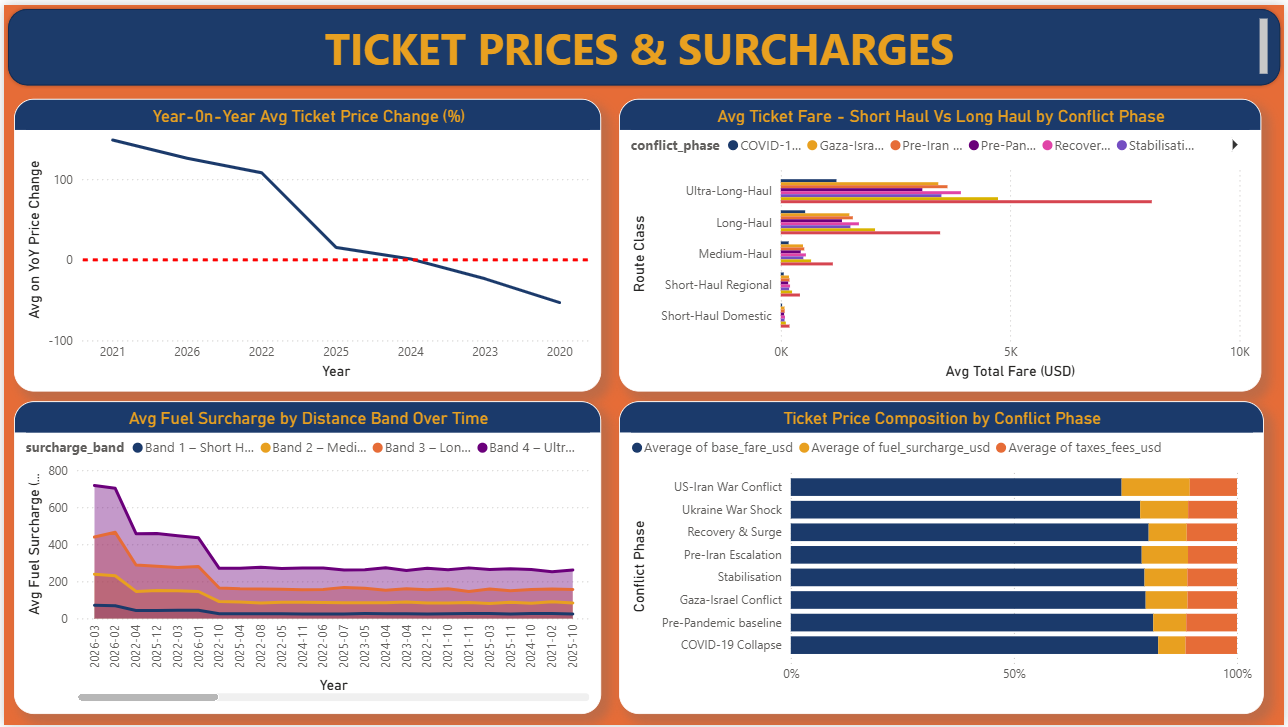

Layout of this report page (visuals, bound fields, positions):
{"tool":"powerbi","page":{"name":"Ticket Prices & Surcharges","canvas":[1280,720],"ordinal":2},"visuals":[{"type":"lineChart","title":"Year-0n-Year Avg Ticket Price Change (%)","fields":{"Category":["airline_ticket_prices.Year_Label"],"Y":["Avg(airline_ticket_prices.yoy_price_change_pct)"]},"box":[10,93.8,587.5,292.5],"z":0},{"type":"shape","box":[0,0,1280.3,84.4],"z":1000},{"type":"textbox","box":[9.8,8.6,1258.3,66],"z":2000},{"type":"clusteredBarChart","title":"Avg Ticket Fare - Short Haul Vs Long Haul by Conflict Phase","fields":{"Category":["airline_ticket_prices.route_class"],"Y":["Avg(airline_ticket_prices.total_fare_usd)"],"Series":["airline_ticket_prices.conflict_phase"]},"box":[615,93.8,642.5,292.5],"z":3000},{"type":"areaChart","title":"Avg Fuel Surcharge by Distance Band Over Time","fields":{"Category":["fuel_surcharges.month"],"Y":["Avg(fuel_surcharges.fuel_surcharge_usd)"],"Series":["fuel_surcharges.surcharge_band"]},"box":[10,396.2,587.5,312.5],"z":4000},{"type":"hundredPercentStackedBarChart","title":"Ticket Price Composition by Conflict Phase","fields":{"Category":["dim_conflict_phase.Conflict_phase"],"Y":["Avg(airline_ticket_prices.base_fare_usd)","Avg(airline_ticket_prices.fuel_surcharge_usd)","Avg(airline_ticket_prices.taxes_fees_usd)"]},"box":[615,396.2,645,312.5],"z":5000}]}

Visuals, with their boxes in screenshot pixels (x1, y1, x2, y2), scaled from the page's 1280x720 canvas onto the 1288x727 screenshot:
"Year-0n-Year Avg Ticket Price Change (%)" lineChart: (10, 95, 601, 390)
shape: (0, 0, 1287, 85)
textbox: (10, 9, 1276, 75)
"Avg Ticket Fare - Short Haul Vs Long Haul by Conflict Phase" clusteredBarChart: (619, 95, 1265, 390)
"Avg Fuel Surcharge by Distance Band Over Time" areaChart: (10, 400, 601, 716)
"Ticket Price Composition by Conflict Phase" hundredPercentStackedBarChart: (619, 400, 1268, 716)
